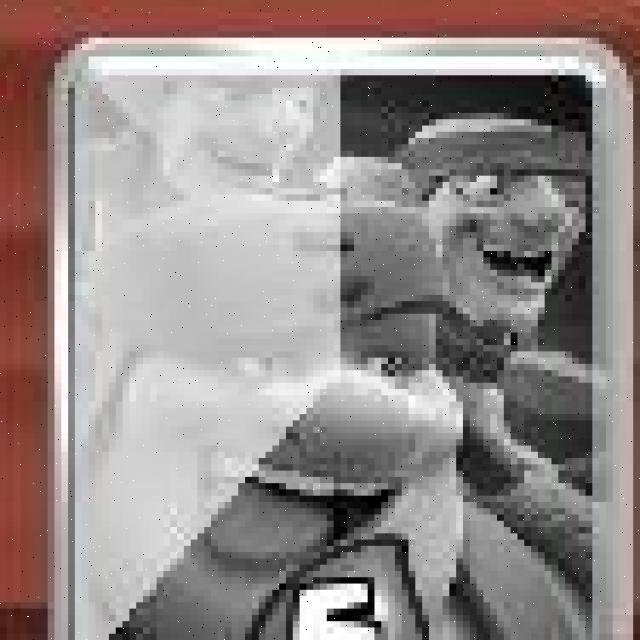Goblin_Giant: (48, 31, 636, 640)
